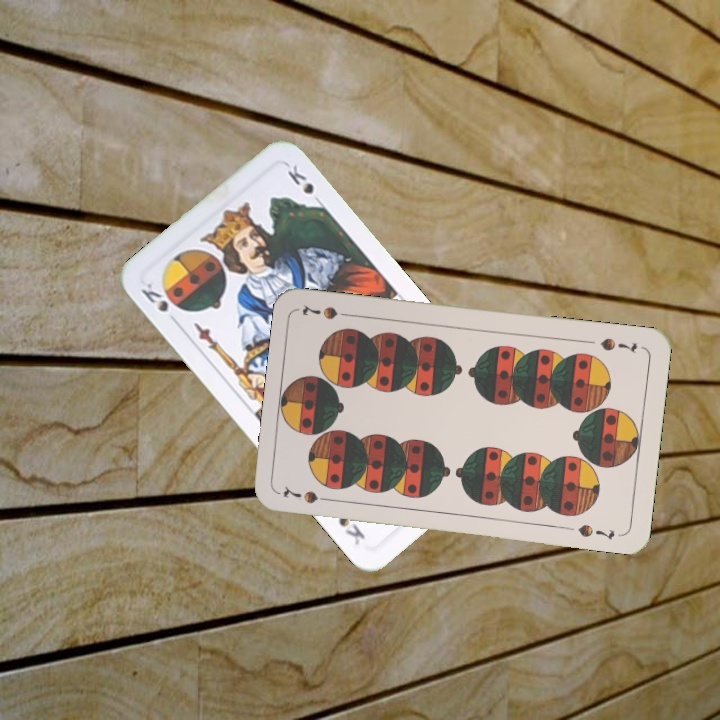S7: (279, 482, 336, 506), (596, 333, 640, 354)
SK: (137, 278, 182, 328)
